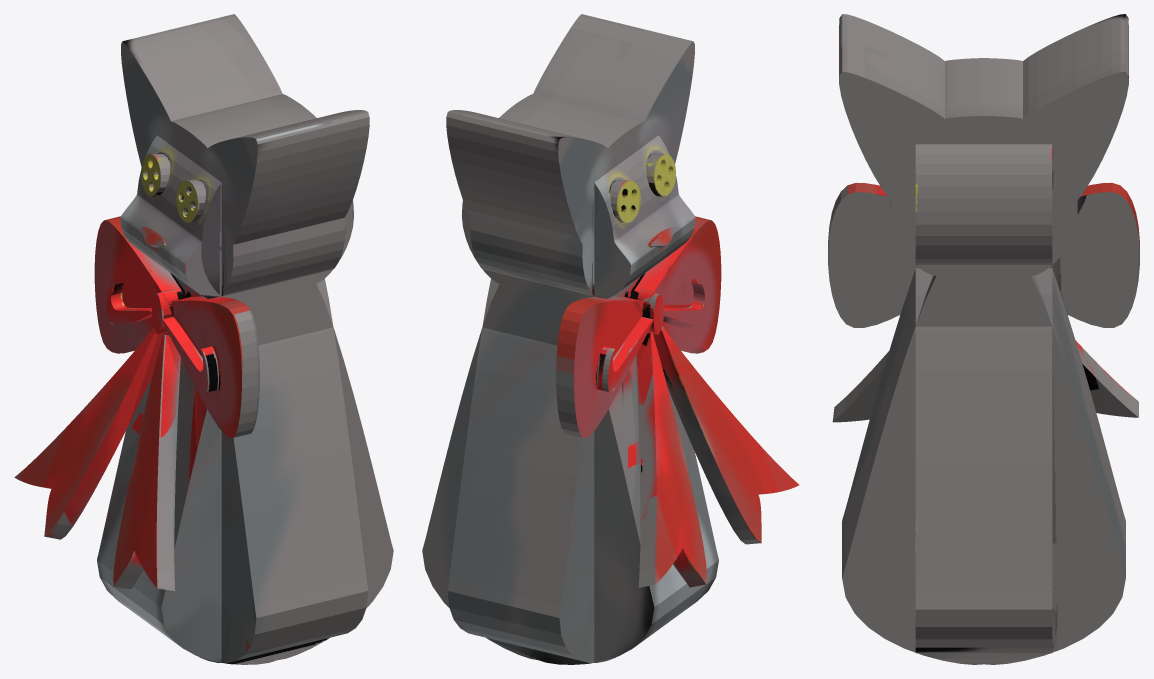
File: kotek.fbx
3 views of the same model, side by side, from view 1: azimuth 30°, elevation 25°; view 2: azimuth 150°, elevation 25°; view 3: azimuth 270°, elevation 25° (orthographic). The views are drawn at different scales.
Visible parts, largest first — view 1: obj_0; view 2: obj_0; view 3: obj_0.
Boxes of the visible parts, box(x1,y1,x2,y2) form: obj_0: box(14, 14, 393, 664); obj_0: box(422, 14, 799, 664); obj_0: box(828, 14, 1139, 664).
Bounding box in the file's own units: 2542 × 4785 × 2280.
1 material, 1 textured.
